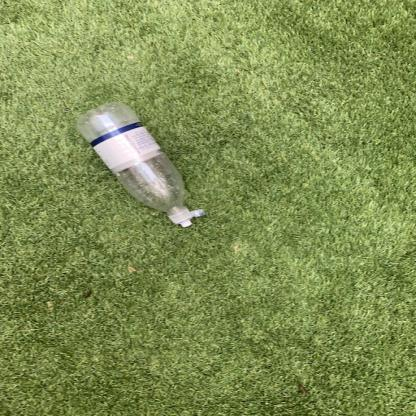trash: (73, 100, 211, 230)
